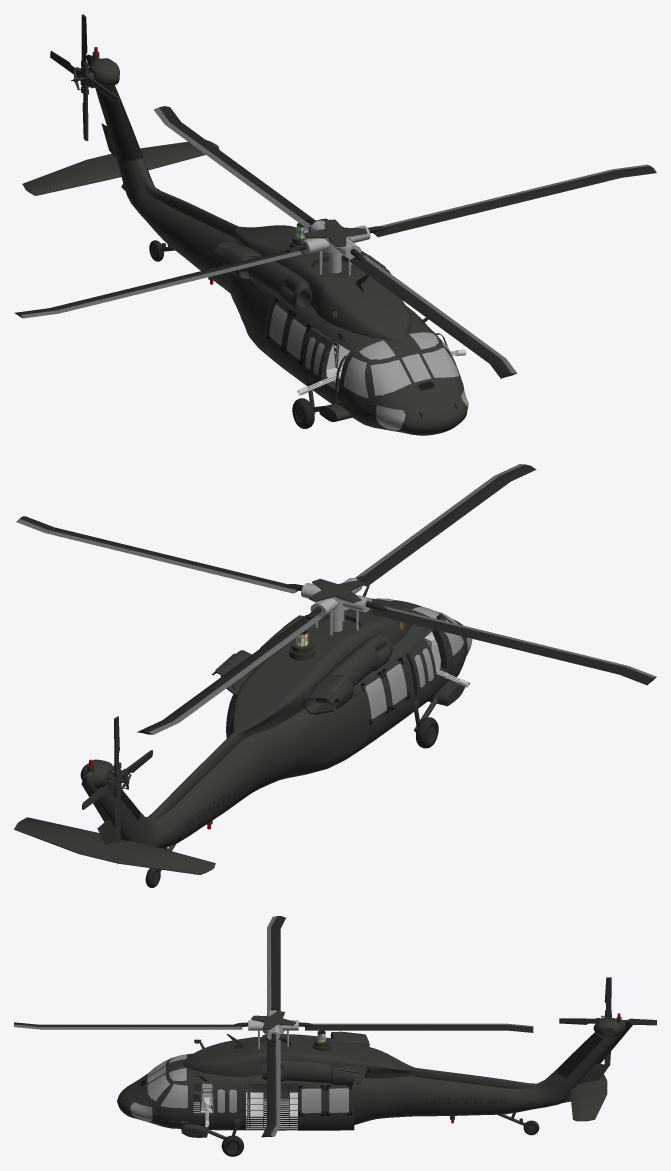
Rendered from Helicopter.fbx.
The picture shows the model from 3 angles, top to bottom: view 1: azimuth 30°, elevation 25°; view 2: azimuth 150°, elevation 25°; view 3: azimuth 270°, elevation 25°; orthographic projection. The views are drawn at different scales.
Visible parts, largest first — view 1: mainhull, cockpit_windows, tailfin, rotor4, rotor1, rightengine, rotor2, rotor3, rotorhead, rightdoor, rightdoor_windows, rightcockpitdoor (+4 smaller); view 2: mainhull, tailfin, rotor2, rightengine, rotor1, rotor3, rotor4, rotorhead, rightdoor, rightdoor_windows, rightwheel_, rightgunnerdoor (+1 smaller); view 3: mainhull, rotor3, leftengine, leftdoor, rotor4, rotor1, rotor2, tailfin, cockpit_windows, leftdoor_windows, rotorhead, leftcockpitdoor (+8 smaller).
Part boxes in pixels (x1,y1,x2,y2): mainhull: [89, 56, 467, 435]; cockpit_windows: [359, 332, 468, 430]; tailfin: [22, 140, 219, 195]; rotor4: [368, 164, 656, 237]; rotor1: [349, 248, 517, 378]; rightengine: [214, 241, 312, 309]; rotor2: [14, 243, 306, 318]; rotor3: [154, 106, 316, 227]; rotorhead: [301, 219, 370, 275]; rightdoor: [265, 296, 311, 385]; rightdoor_windows: [269, 304, 305, 359]; rightcockpitdoor: [340, 354, 371, 418]; mainhull: [85, 598, 467, 848]; tailfin: [14, 817, 215, 874]; rotor2: [366, 601, 656, 685]; rightengine: [300, 634, 392, 714]; rotor1: [354, 464, 536, 586]; rotor3: [137, 606, 322, 734]; rotor4: [16, 516, 303, 593]; rotorhead: [301, 578, 371, 635]; rightdoor: [358, 656, 410, 748]; rightdoor_windows: [365, 664, 406, 718]; rightwheel_: [412, 680, 465, 740]; rightgunnerdoor: [405, 639, 437, 695]; mainhull: [117, 1019, 625, 1130]; rotor3: [298, 1022, 533, 1032]; leftengine: [262, 1059, 369, 1085]; leftdoor: [298, 1083, 354, 1130]; rotor4: [261, 1033, 280, 1137]; rotor1: [14, 1022, 248, 1029]; rotor2: [267, 916, 285, 1013]; tailfin: [570, 1074, 607, 1121]; cockpit_windows: [130, 1054, 186, 1121]; leftdoor_windows: [301, 1088, 348, 1113]; rotorhead: [248, 1010, 298, 1049]; leftcockpitdoor: [157, 1082, 190, 1122].
Size of the model in its own units: 150 by 48.32 by 186.
